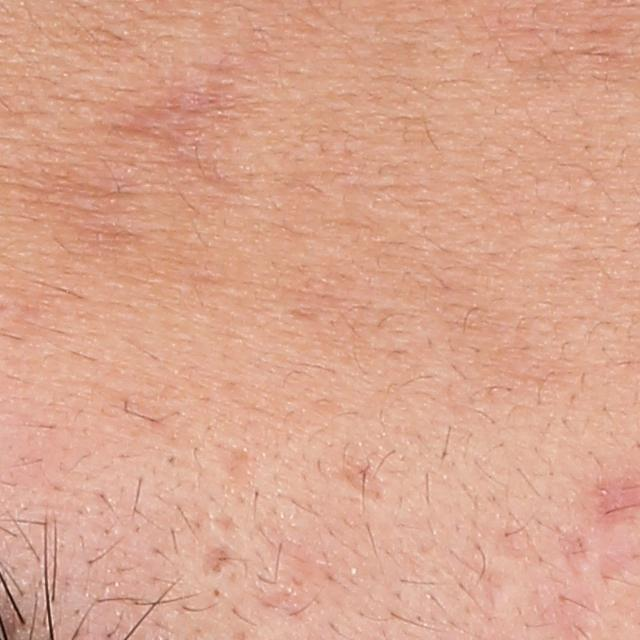atrophic_scar: (135, 60, 249, 190), (340, 453, 387, 505), (221, 447, 259, 495), (555, 527, 591, 576), (205, 546, 237, 576)
